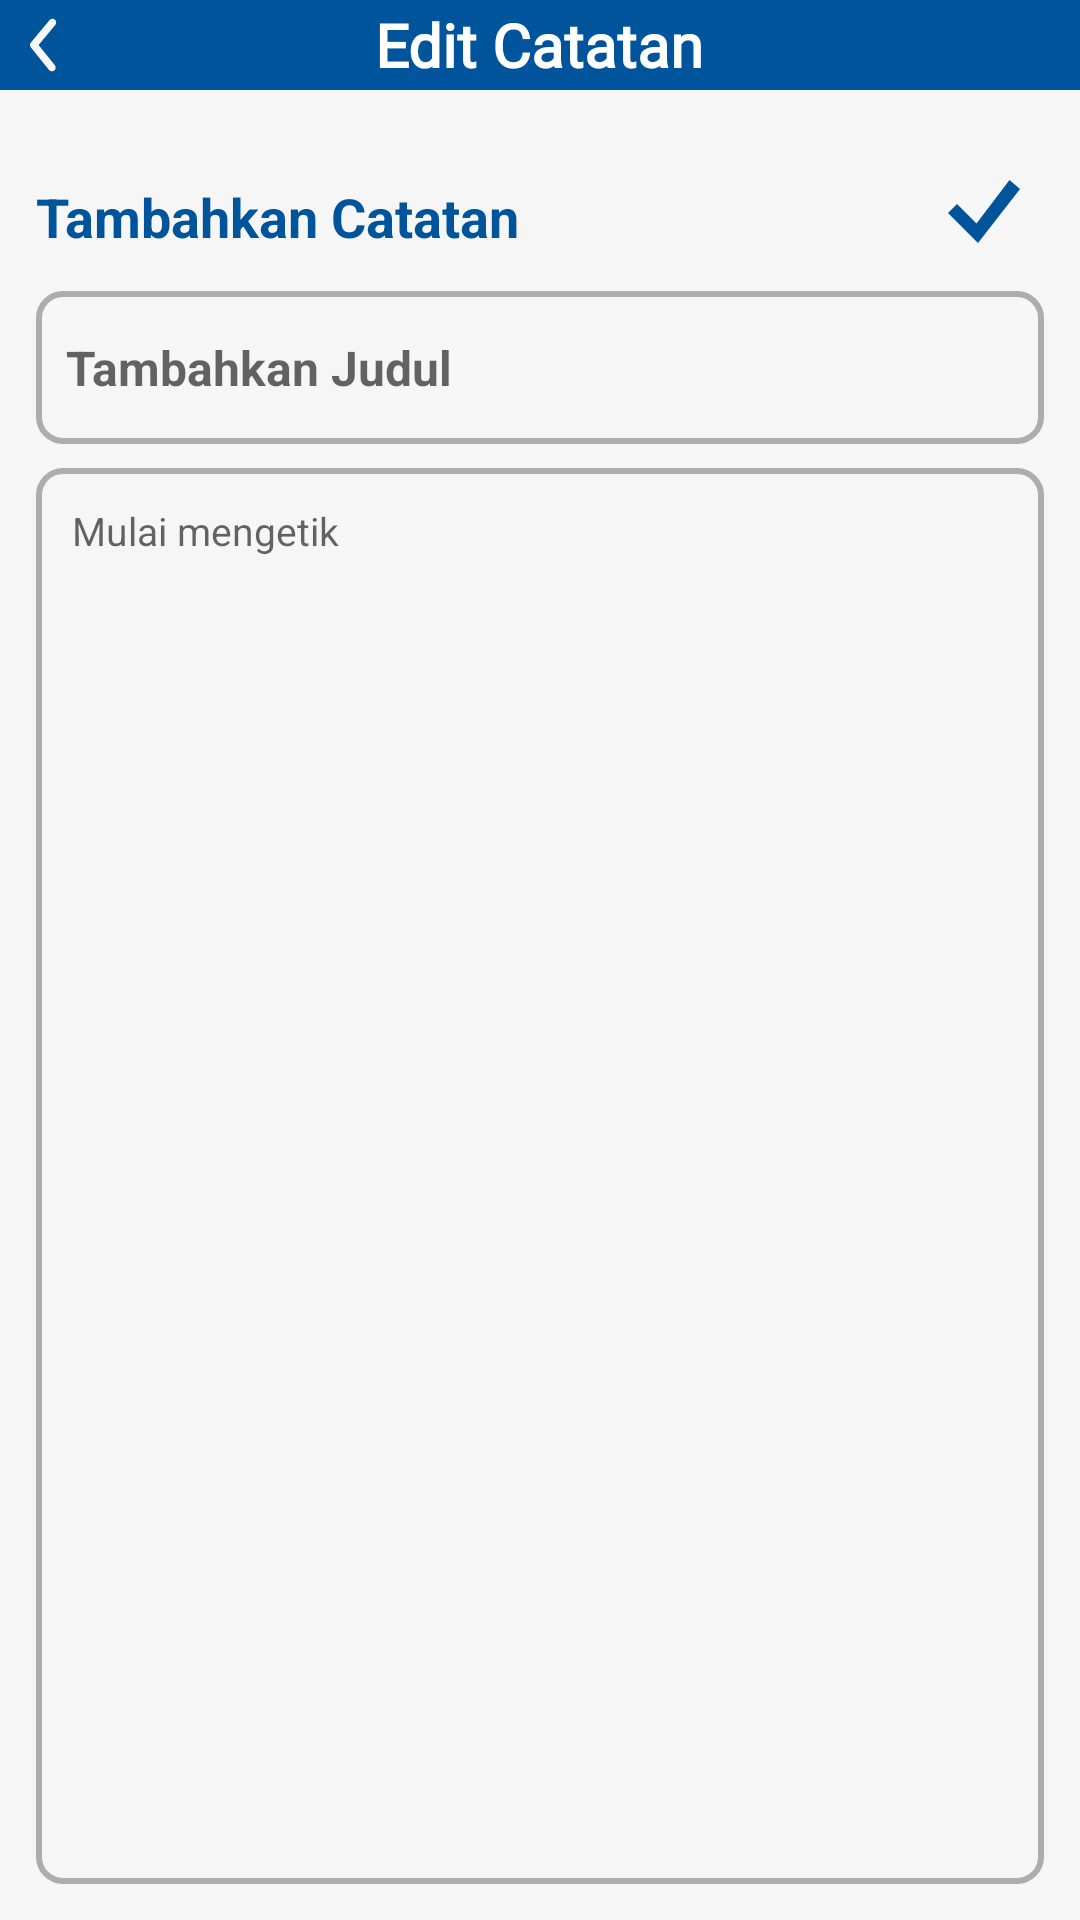

Named icons in this screenshot (1080 × 1920) and their bounding boxes, detection(x1, y1, x2, y2):
back arrow: detection(30, 18, 57, 72)
Save Note: detection(948, 180, 1020, 243)
